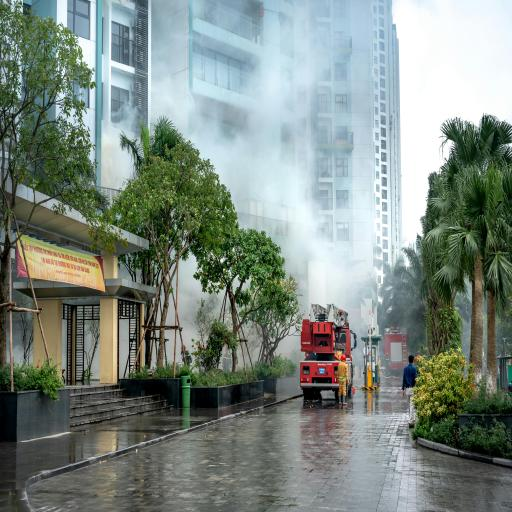smoke: (143, 0, 425, 321), (100, 60, 142, 188), (178, 255, 204, 341)
